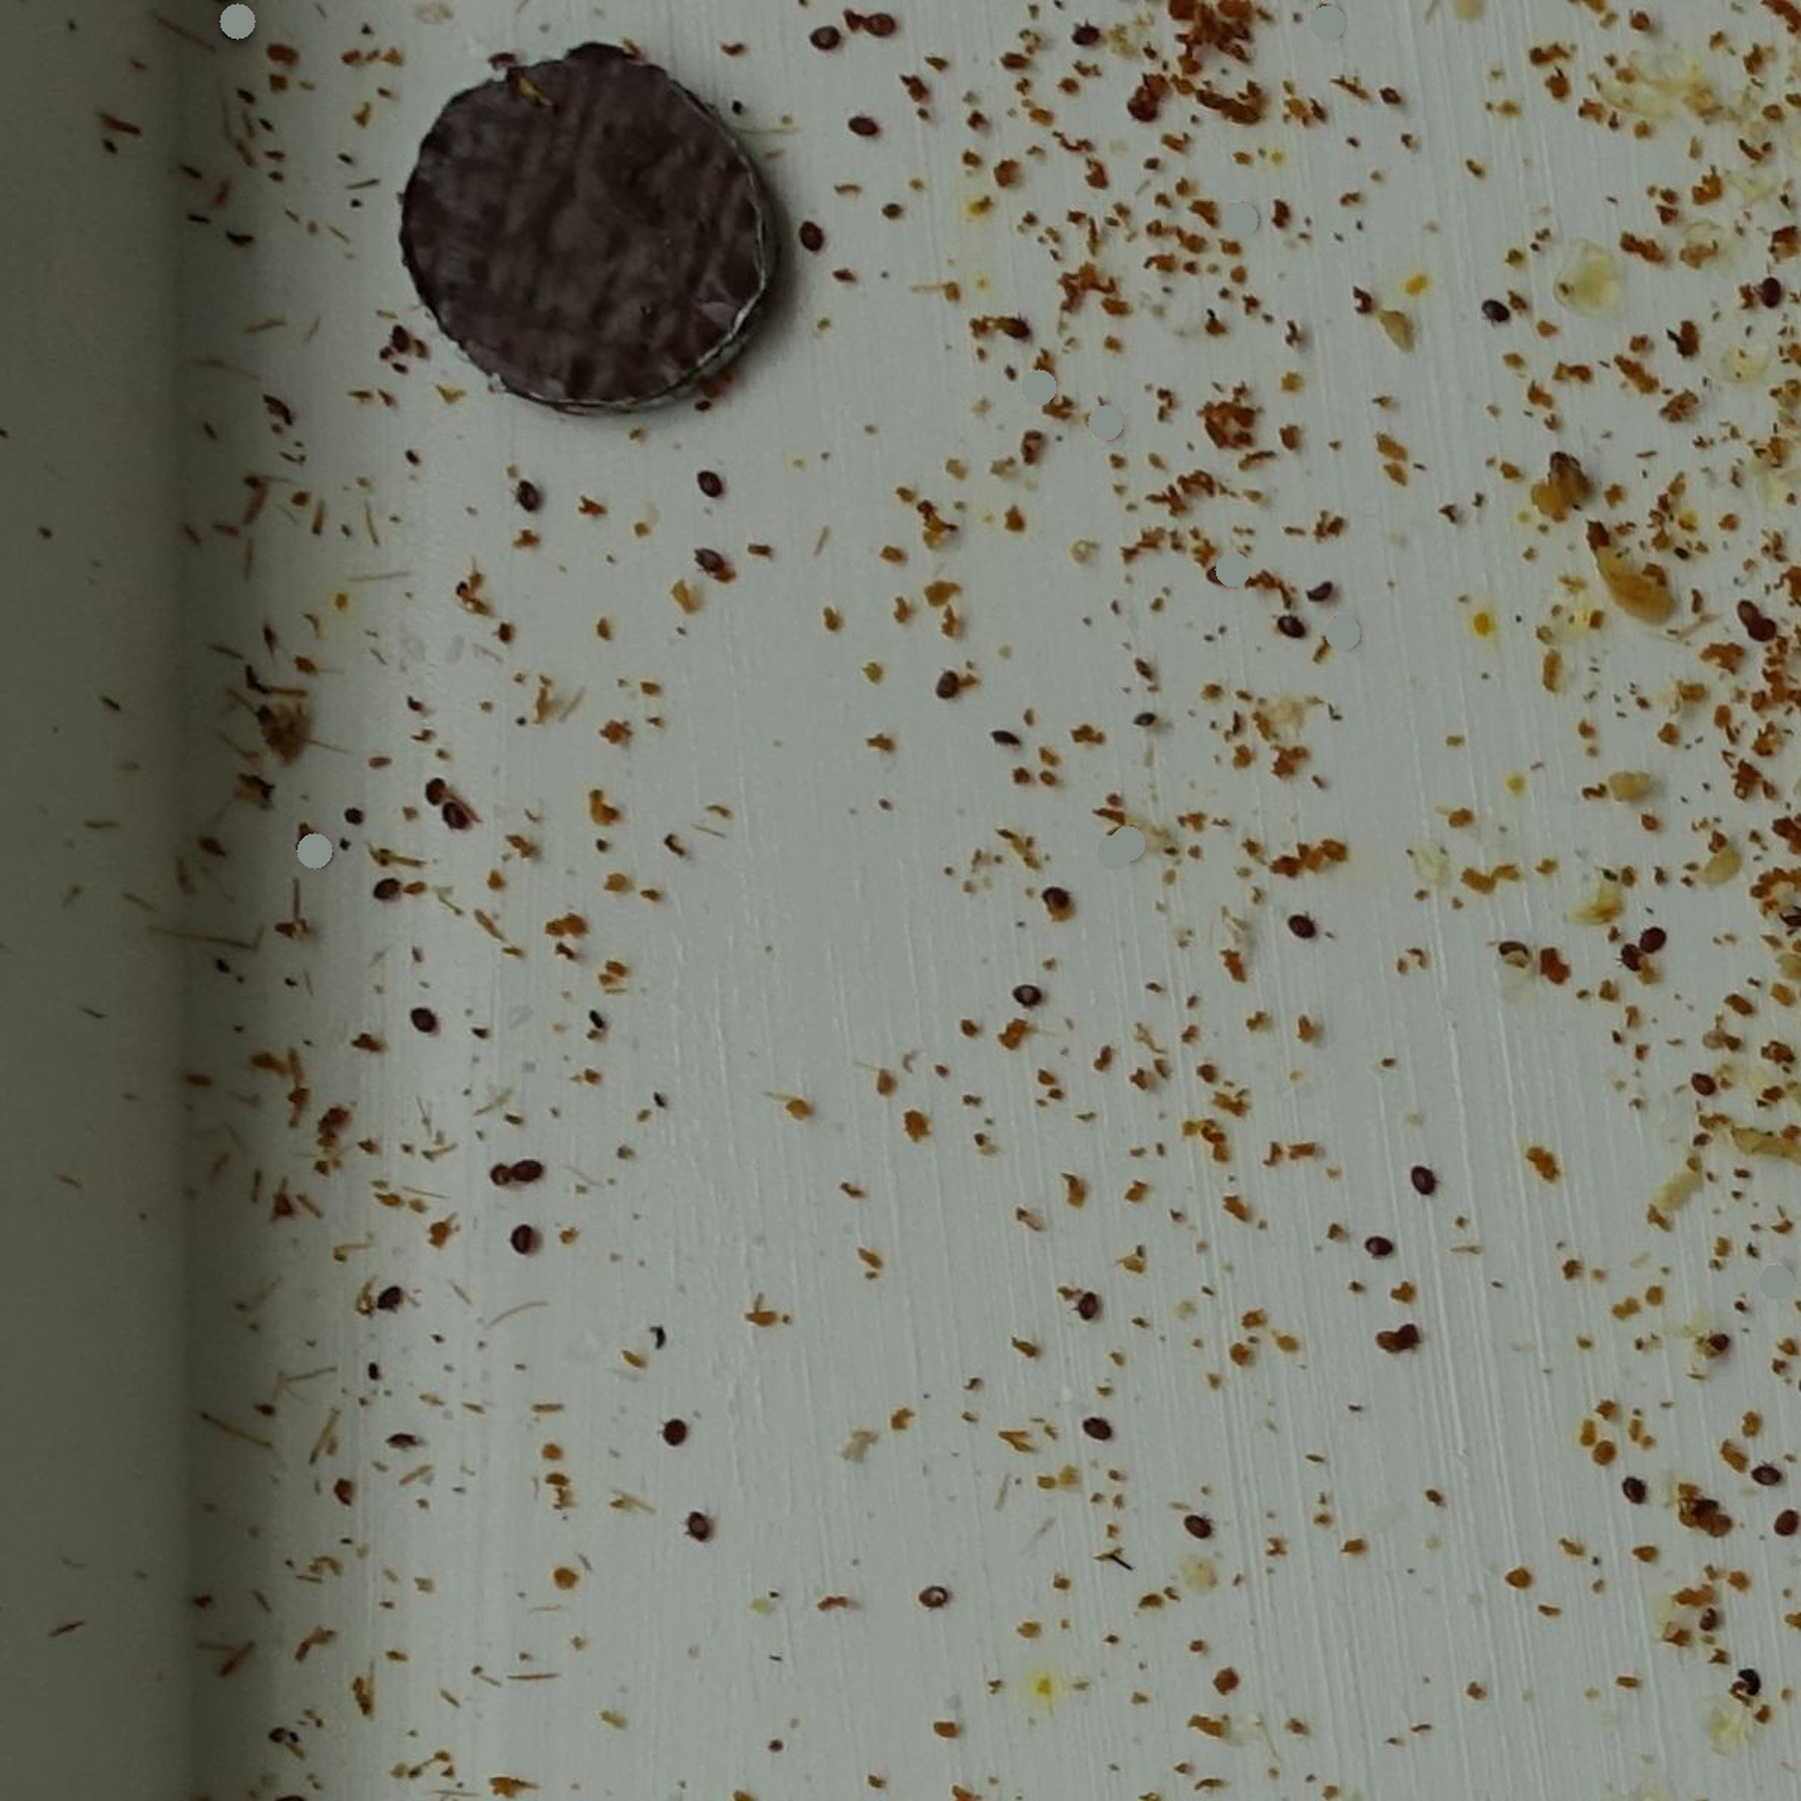Varroa: (1366, 1319, 1410, 1364), (1694, 1319, 1738, 1364), (1723, 589, 1768, 632), (1389, 1314, 1433, 1357), (1682, 1484, 1727, 1527), (915, 1580, 950, 1615), (1380, 1323, 1413, 1356), (866, 8, 897, 41), (813, 26, 843, 58), (1013, 985, 1042, 1016), (1001, 317, 1032, 346), (389, 327, 417, 356), (508, 1224, 536, 1253), (374, 1283, 402, 1313), (1618, 947, 1646, 976), (503, 1161, 531, 1189), (1366, 1235, 1394, 1263), (1278, 614, 1306, 642), (1747, 617, 1773, 645), (661, 1413, 688, 1441), (1204, 562, 1230, 590), (1636, 925, 1662, 953), (849, 112, 876, 139), (444, 800, 470, 826), (1306, 584, 1333, 610), (699, 473, 726, 500), (515, 483, 539, 511), (930, 676, 955, 704), (416, 1003, 440, 1031), (699, 554, 726, 579), (693, 1516, 717, 1542), (1755, 1456, 1780, 1483), (1761, 280, 1786, 307), (1135, 92, 1159, 119), (1694, 1070, 1719, 1095), (1072, 25, 1097, 49), (426, 778, 450, 803), (802, 219, 825, 246), (1046, 892, 1069, 919), (1620, 1474, 1643, 1499), (1408, 1163, 1432, 1187), (378, 877, 401, 902), (1085, 1418, 1108, 1441), (1186, 1512, 1209, 1535), (1291, 914, 1314, 937), (1484, 302, 1507, 323), (1079, 1293, 1100, 1316)
